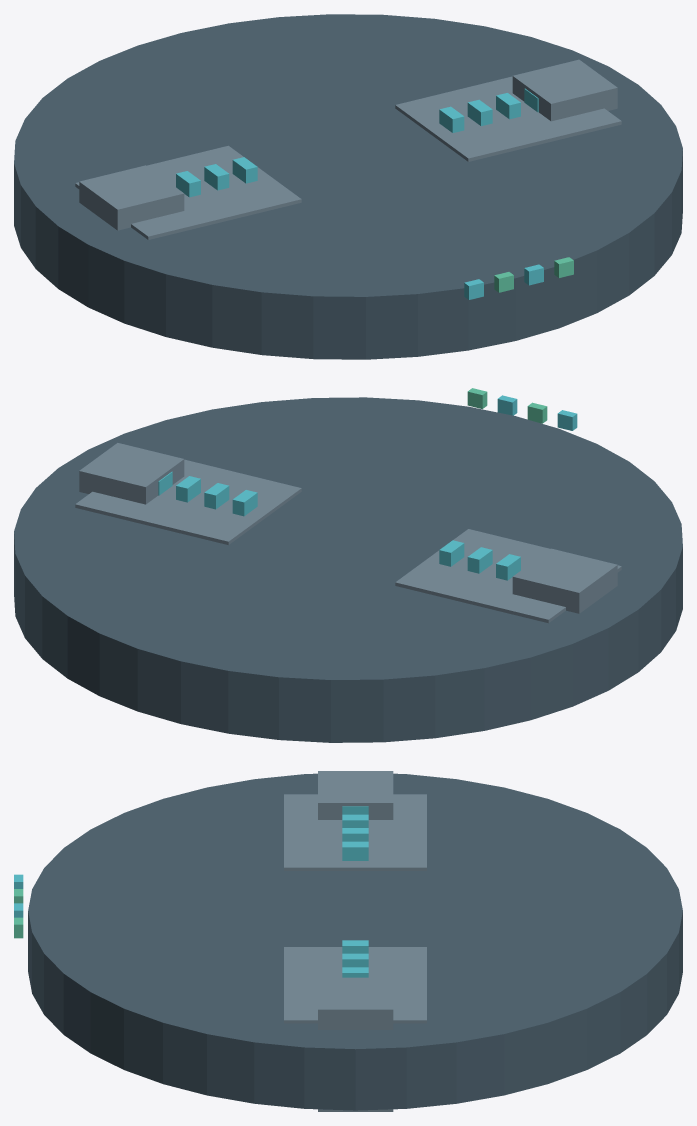
The model's file is 22_L79_TipTiltCompensationPlatform.glb.
The picture shows the model from 3 angles, top to bottom: view 1: azimuth 30°, elevation 25°; view 2: azimuth 150°, elevation 25°; view 3: azimuth 270°, elevation 25°; orthographic projection. The views are drawn at different scales.
Parts seen in each view (by area): view 1: TipTiltCompensationPlatform_Node_0000, TipTiltCompensationPlatform_Node_0013, TipTiltCompensationPlatform_Node_0007, TipTiltCompensationPlatform_Node_0001, TipTiltCompensationPlatform_Node_0004, TipTiltCompensationPlatform_Node_0015, TipTiltCompensationPlatform_Node_0011, TipTiltCompensationPlatform_Node_0012, TipTiltCompensationPlatform_Node_0014; view 2: TipTiltCompensationPlatform_Node_0000, TipTiltCompensationPlatform_Node_0013, TipTiltCompensationPlatform_Node_0007, TipTiltCompensationPlatform_Node_0001, TipTiltCompensationPlatform_Node_0004, TipTiltCompensationPlatform_Node_0014, TipTiltCompensationPlatform_Node_0015; view 3: TipTiltCompensationPlatform_Node_0000, TipTiltCompensationPlatform_Node_0007, TipTiltCompensationPlatform_Node_0013, TipTiltCompensationPlatform_Node_0004, TipTiltCompensationPlatform_Node_0001, TipTiltCompensationPlatform_Node_0012.
Part boxes in pixels (x1,y1,x2,y2): TipTiltCompensationPlatform_Node_0000: (14,14,682,359); TipTiltCompensationPlatform_Node_0013: (395,76,621,161); TipTiltCompensationPlatform_Node_0007: (75,145,301,239); TipTiltCompensationPlatform_Node_0001: (79,165,184,230); TipTiltCompensationPlatform_Node_0004: (512,59,617,121); TipTiltCompensationPlatform_Node_0015: (467,99,492,126); TipTiltCompensationPlatform_Node_0011: (204,164,229,190); TipTiltCompensationPlatform_Node_0012: (232,157,257,183); TipTiltCompensationPlatform_Node_0014: (439,106,464,132); TipTiltCompensationPlatform_Node_0000: (14,397,682,742); TipTiltCompensationPlatform_Node_0013: (75,459,301,544); TipTiltCompensationPlatform_Node_0007: (395,529,621,623); TipTiltCompensationPlatform_Node_0001: (512,548,617,613); TipTiltCompensationPlatform_Node_0004: (79,443,184,504); TipTiltCompensationPlatform_Node_0014: (232,490,257,516); TipTiltCompensationPlatform_Node_0015: (204,483,229,509); TipTiltCompensationPlatform_Node_0000: (28,773,682,1110); TipTiltCompensationPlatform_Node_0007: (284,794,426,870); TipTiltCompensationPlatform_Node_0013: (284,947,426,1023); TipTiltCompensationPlatform_Node_0004: (318,977,393,1111); TipTiltCompensationPlatform_Node_0001: (318,771,393,819); TipTiltCompensationPlatform_Node_0012: (342,841,368,860).
Size of the model in its own units: 1.74 by 0.3 by 1.78.
